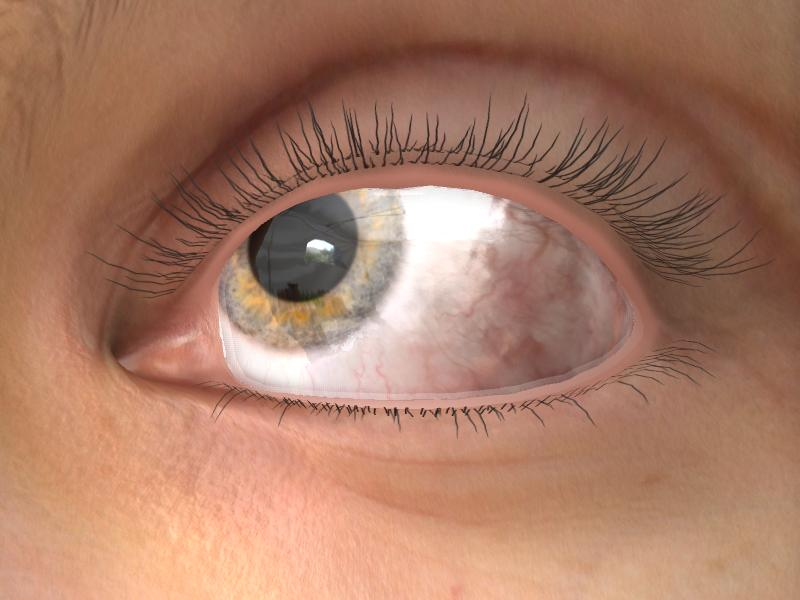eye: (221, 188, 410, 350)
